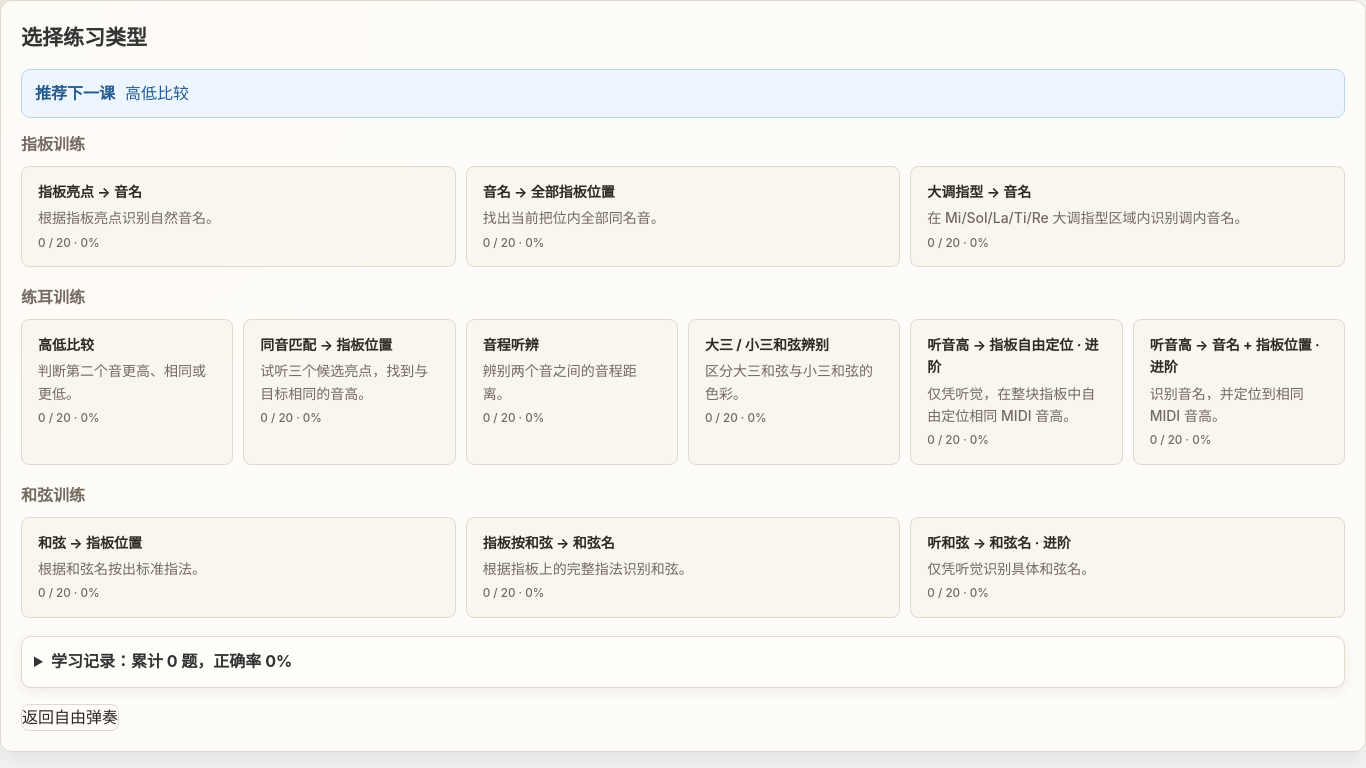
Test: PracticeMode › shows the controls for the same-pitch matching bridge exercise
Click the button "同音匹配 → 指板位置" at {"x": 349, "y": 392}, box [243, 319, 456, 465]
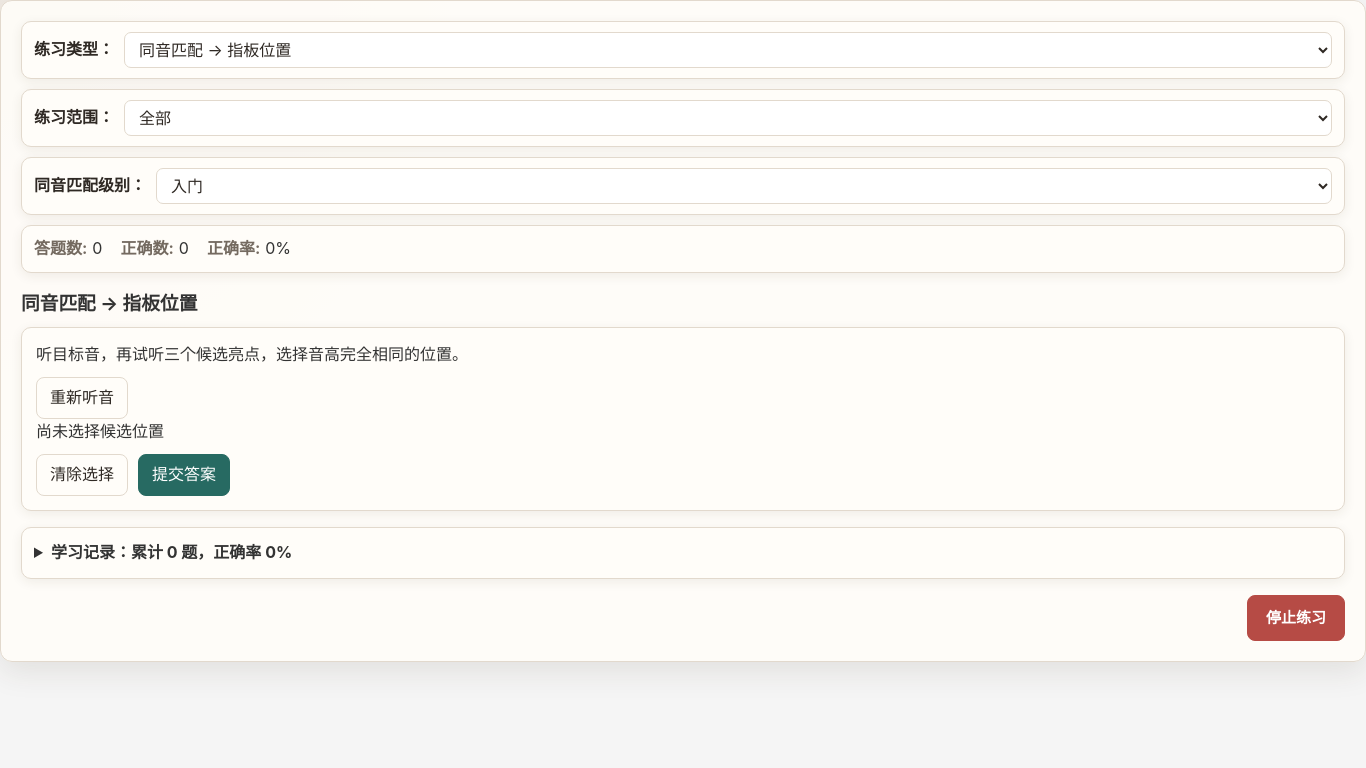
expect the text "听目标音，再试听三个候选亮点，选择音高完全相同的位置。" is shown: met, box [36, 344, 468, 364]
expect the dropdown labelled "练习范围：" shows "全部": met, box [124, 100, 1332, 136]
expect the dropdown labelled "同音匹配级别：" shows "入门": met, box [156, 168, 1332, 204]
